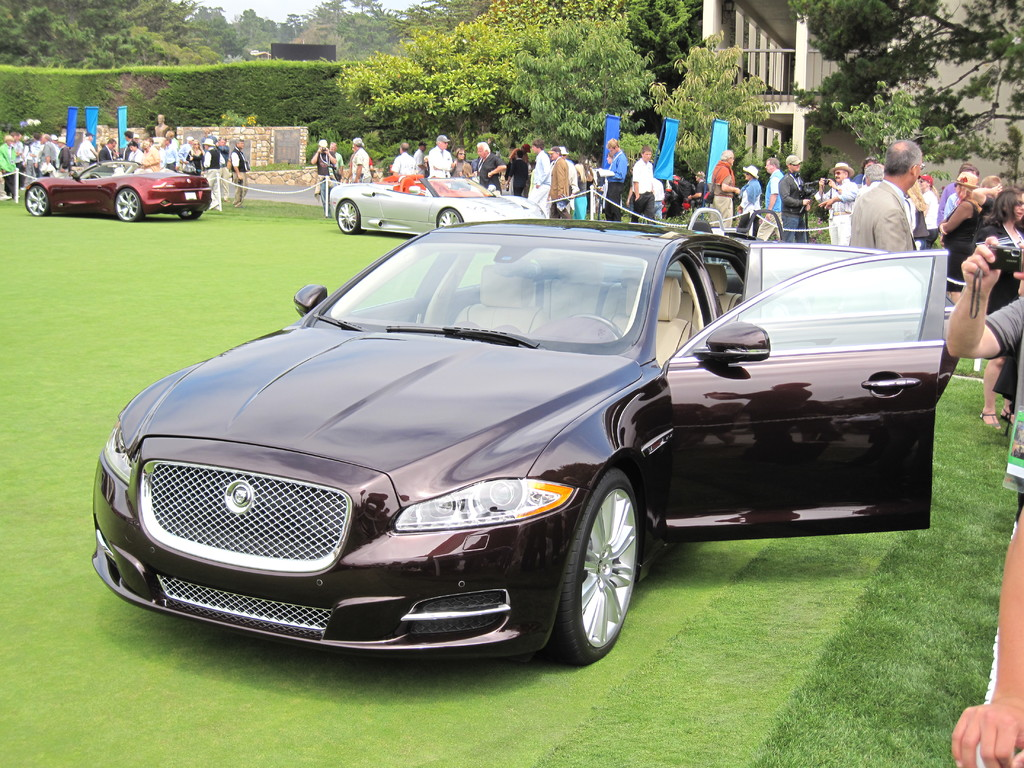Car: (90, 217, 967, 667), (329, 175, 546, 234), (24, 160, 211, 221)
